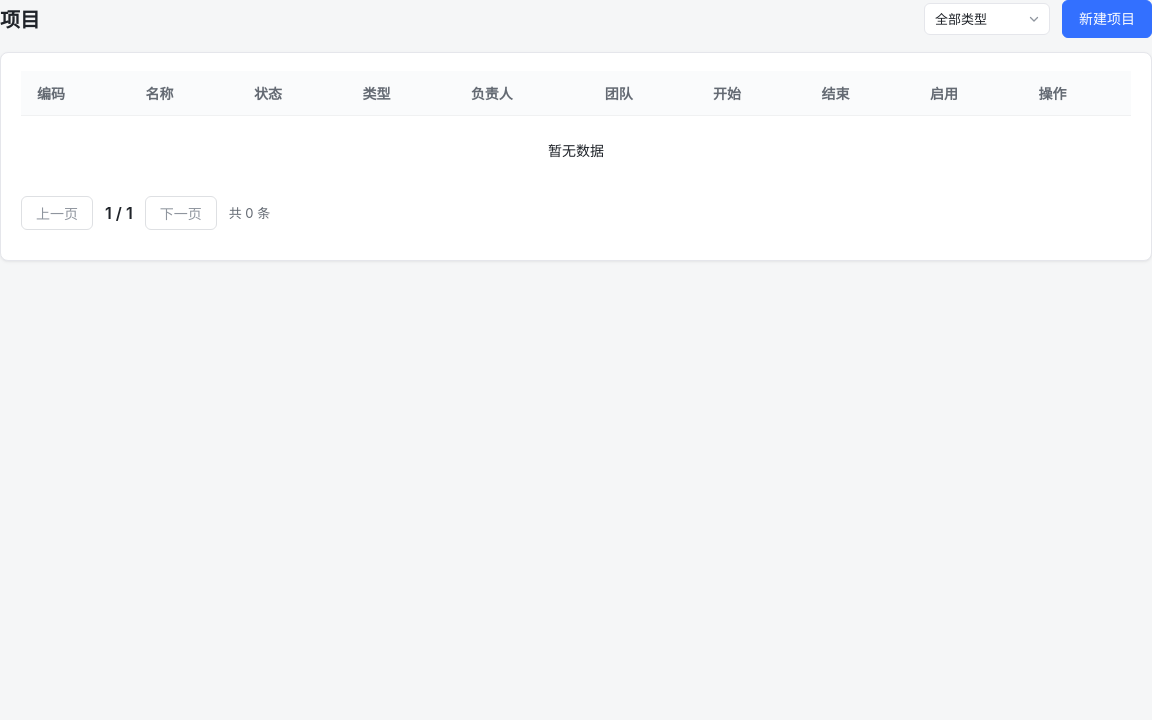
ProjectsPage › shows a form error instead of silently no-op when owner is missing (Code-M7)
The image size is (1152, 720).
Click the button with test id "projects-new-btn" at (1107, 19), box [1062, 0, 1151, 38]
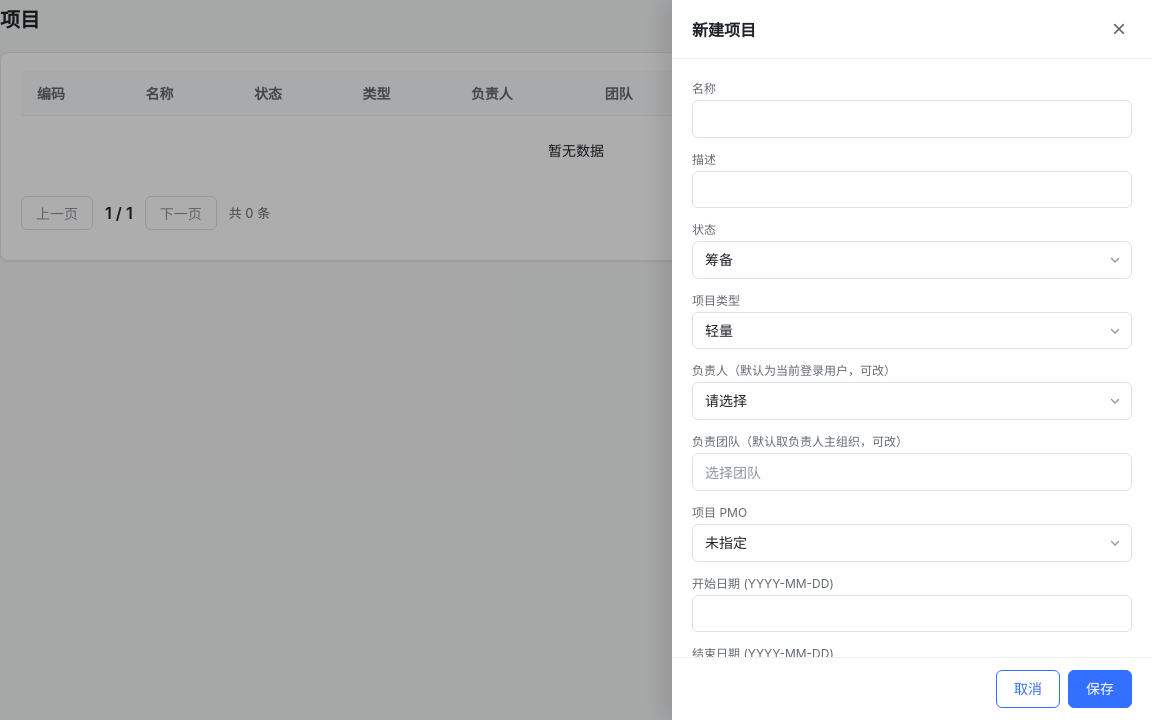
Now the dropdown with test id "projects-owner-select" shows "请选择", box [692, 382, 1132, 420]
// Fill required text field so only owner is missing (编号自动生成，无输入).
Type "X" into the field labelled "名称" at (912, 119), box [692, 100, 1132, 138]
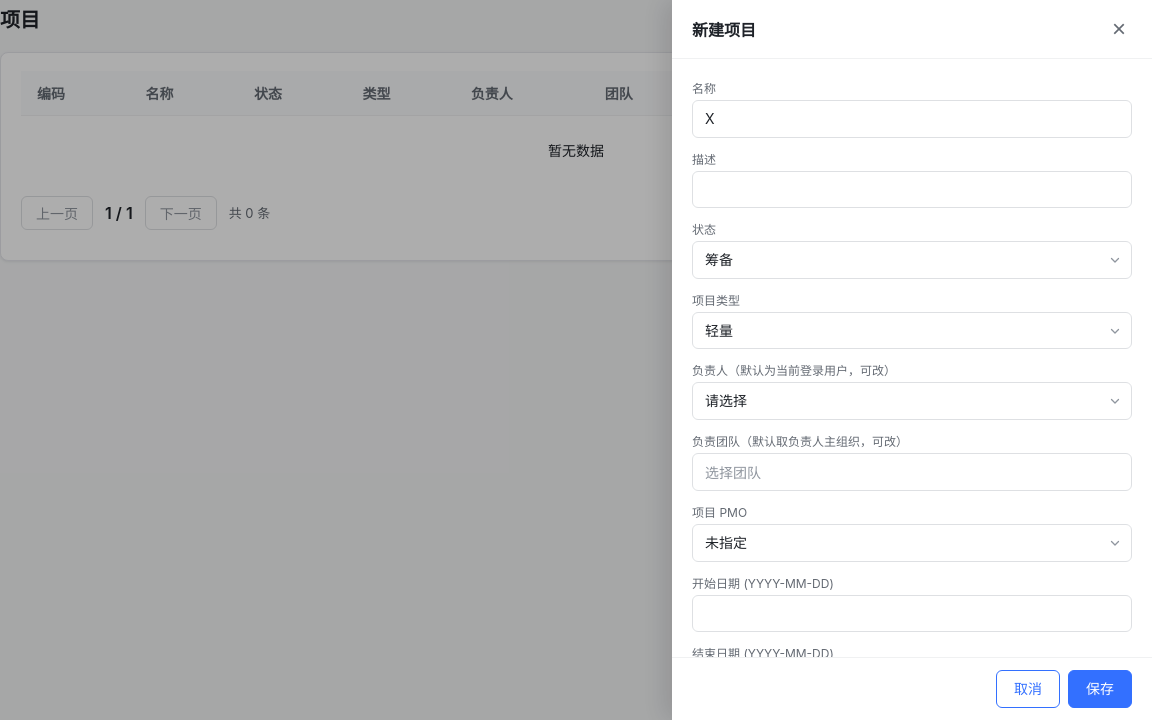
Click the button "保存" at (1100, 689), box [1068, 670, 1132, 708]
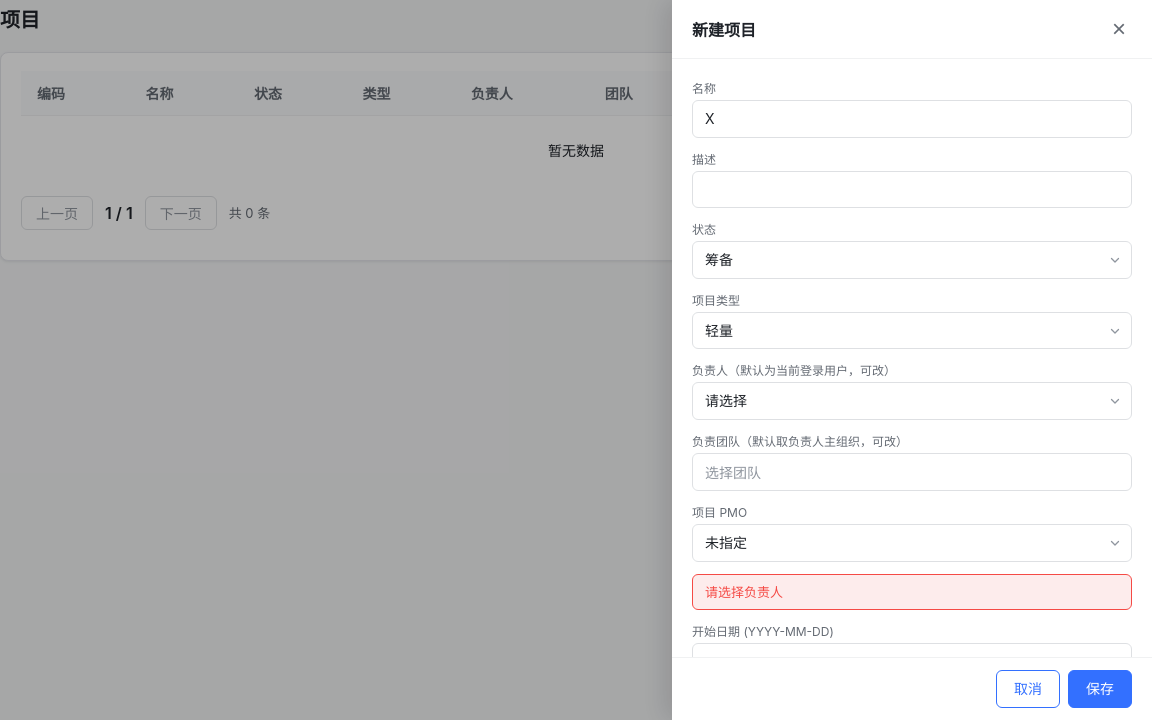
Now the text with test id "projects-form-error" reads "请选择负责人", box [705, 584, 783, 600]
